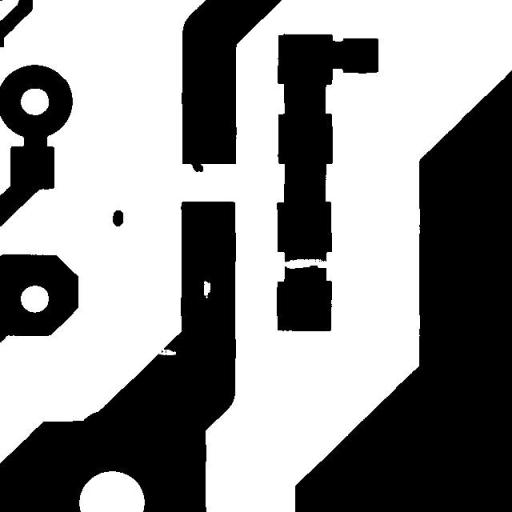copper: (105, 202, 130, 234)
mousebite: (150, 341, 184, 362)
open: (274, 251, 336, 276)
pin-hole: (196, 272, 218, 306)
spur: (182, 150, 210, 180)
